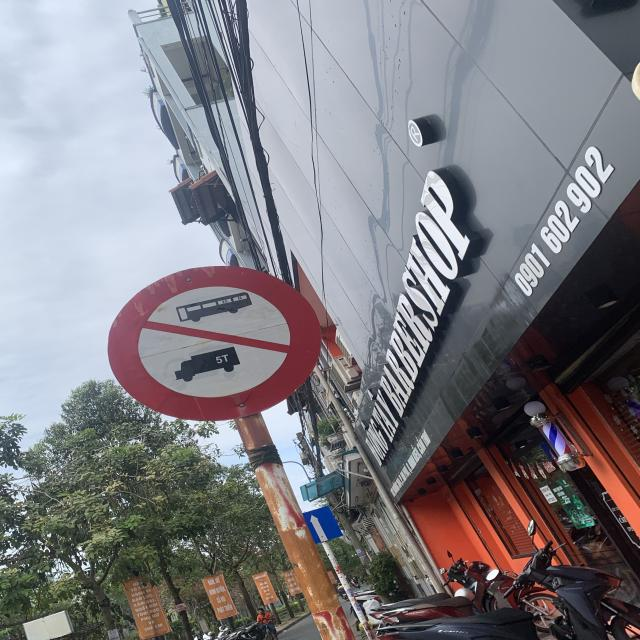Cam_XeTai_XeKhach: (108, 265, 323, 420)
